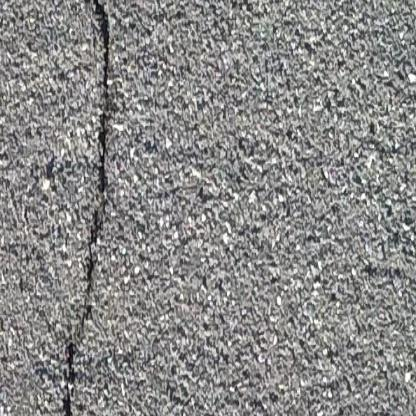Cracks: (63, 0, 112, 416)
